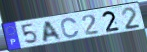2: (121, 6, 142, 31), (101, 10, 120, 33), (82, 14, 100, 36)
5: (19, 22, 39, 45)
A: (42, 19, 63, 43)
C: (60, 17, 81, 39)
